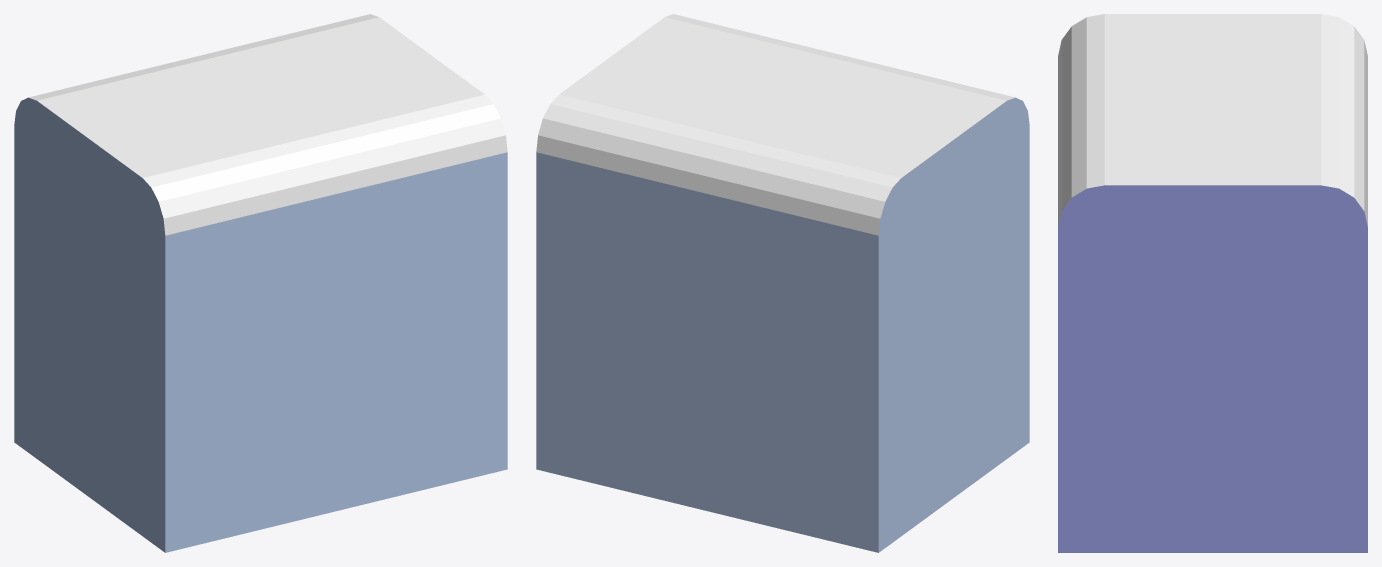
Rendered from Building_042_b.fbx.
3 renders of one model, left to right at view 1: azimuth 30°, elevation 25°; view 2: azimuth 150°, elevation 25°; view 3: azimuth 270°, elevation 25°, orthographic. The views are drawn at different scales.
Parts seen in each view (by area): view 1: Building_042_b; view 2: Building_042_b; view 3: Building_042_b.
Part boxes in pixels (<box>): Building_042_b: <box>14,14,507,552</box>; Building_042_b: <box>536,14,1029,552</box>; Building_042_b: <box>1058,14,1367,552</box>.
Size of the model in its own units: 21.65 by 21.65 by 16.54.
